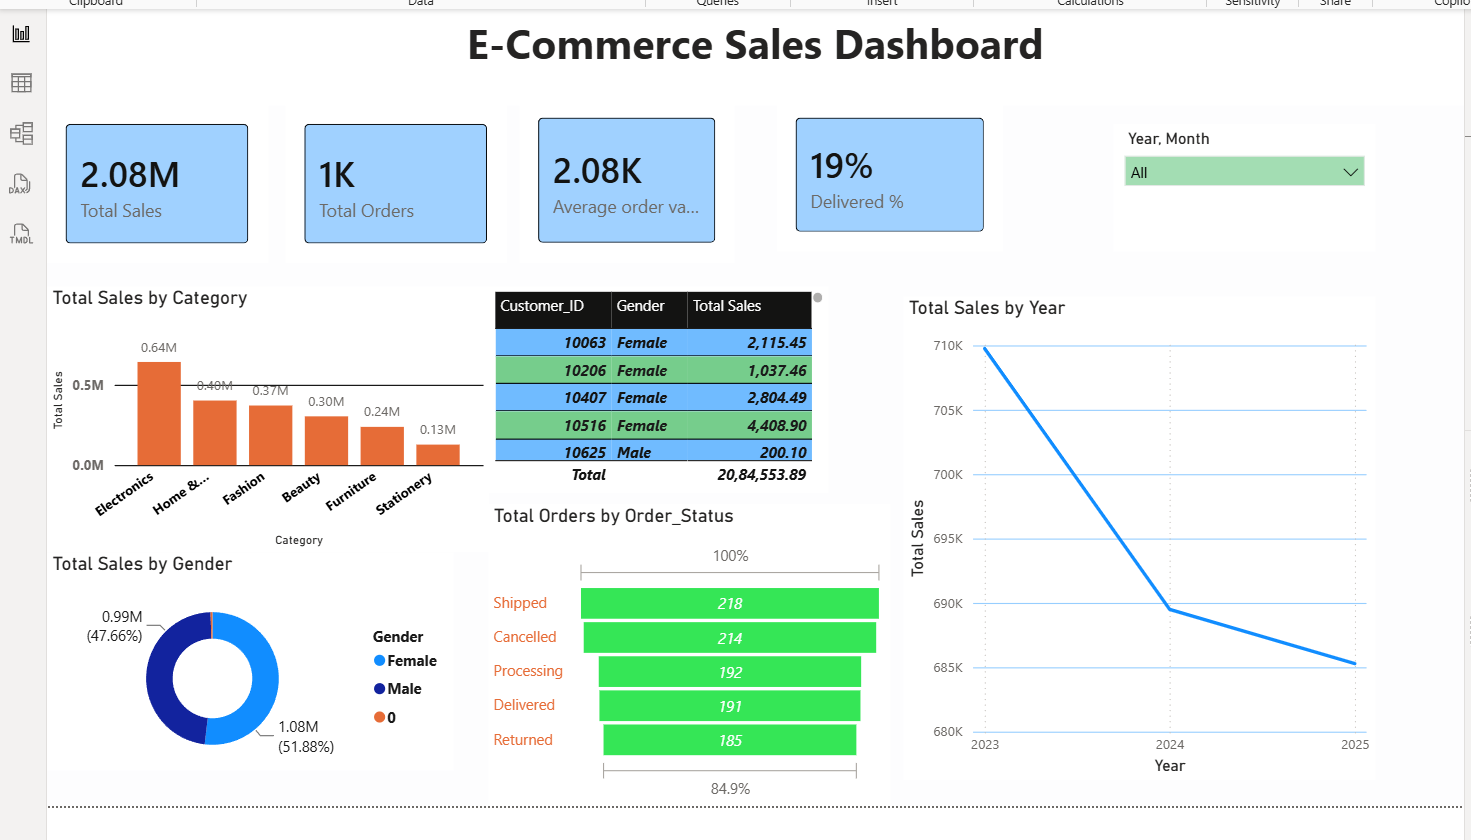

Layout of this report page (visuals, bound fields, positions):
{"tool":"powerbi","page":{"name":"Page 1","canvas":[1280,720],"ordinal":0},"visuals":[{"type":"cardVisual","fields":{"Data":["ecommerce_data.Total Sales"]},"box":[0,86.9,199.9,142.3],"z":0},{"type":"cardVisual","fields":{"Data":["ecommerce_data.Total Orders"]},"box":[215.7,86.9,199.9,142.3],"z":1000},{"type":"cardVisual","fields":{"Data":["ecommerce_data.Average order value"]},"box":[426.8,81.3,194.2,147.9],"z":2000},{"type":"cardVisual","fields":{"Data":["ecommerce_data.Delivered %","ecommerce_data.Delivered %","ecommerce_data.Delivered %"]},"box":[659.4,81.3,204.4,137.8],"z":3000},{"type":"clusteredColumnChart","fields":{"Category":["dim_product.Category"],"Y":["ecommerce_data.Total Sales"]},"box":[0,251,399.3,240.1],"z":4000},{"type":"slicer","fields":{"Values":["dim_date.Date.Variation.Date Hierarchy.Year","dim_date.Date.Variation.Date Hierarchy.Month"]},"box":[963.6,104.2,236.8,115],"z":5000},{"type":"tableEx","fields":{"Values":["DIM_Customer.Customer_ID","DIM_Customer.Gender","ecommerce_data.Total Sales"]},"box":[399,251,307.1,186.7],"z":6000},{"type":"lineChart","fields":{"Category":["dim_date.Date.Variation.Date Hierarchy.Year","dim_date.Date.Variation.Date Hierarchy.Quarter","dim_date.Date.Variation.Date Hierarchy.Month","dim_date.Date.Variation.Date Hierarchy.Day"],"Y":["ecommerce_data.Total Sales"]},"box":[773.8,259.5,426.2,436.9],"z":7000},{"type":"donutChart","fields":{"Category":["DIM_Customer.Gender"],"Y":["ecommerce_data.Total Sales"]},"box":[0,490.8,367.3,196.9],"z":8000},{"type":"funnel","fields":{"Category":["ecommerce_data.Order_Status"],"Y":["ecommerce_data.Total Orders"]},"box":[398.8,447.6,363.1,272.6],"z":9000},{"type":"textbox","box":[0,0,1279.8,87],"z":10000}]}

Visuals, with their boxes on the page's 1280x720 design canvas (x1, y1, x2, y2). These are canvas units, not pixel positions in the 1471x840 screenshot, which may show the page scaled, cropped or inside an application window:
cardVisual - ecommerce_data.Total Sales: x1=0, y1=87, x2=200, y2=229
cardVisual - ecommerce_data.Total Orders: x1=216, y1=87, x2=416, y2=229
cardVisual - ecommerce_data.Average order value: x1=427, y1=81, x2=621, y2=229
cardVisual - ecommerce_data.Delivered % x ecommerce_data.Delivered %: x1=659, y1=81, x2=864, y2=219
clusteredColumnChart - dim_product.Category x ecommerce_data.Total Sales: x1=0, y1=251, x2=399, y2=491
slicer - dim_date.Date.Variation.Date Hierarchy.Year x dim_date.Date.Variation.Date Hierarchy.Month: x1=964, y1=104, x2=1200, y2=219
tableEx - DIM_Customer.Customer_ID x DIM_Customer.Gender: x1=399, y1=251, x2=706, y2=438
lineChart - dim_date.Date.Variation.Date Hierarchy.Year x dim_date.Date.Variation.Date Hierarchy.Quarter: x1=774, y1=260, x2=1200, y2=696
donutChart - DIM_Customer.Gender x ecommerce_data.Total Sales: x1=0, y1=491, x2=367, y2=688
funnel - ecommerce_data.Order_Status x ecommerce_data.Total Orders: x1=399, y1=448, x2=762, y2=720
textbox: x1=0, y1=0, x2=1280, y2=87
